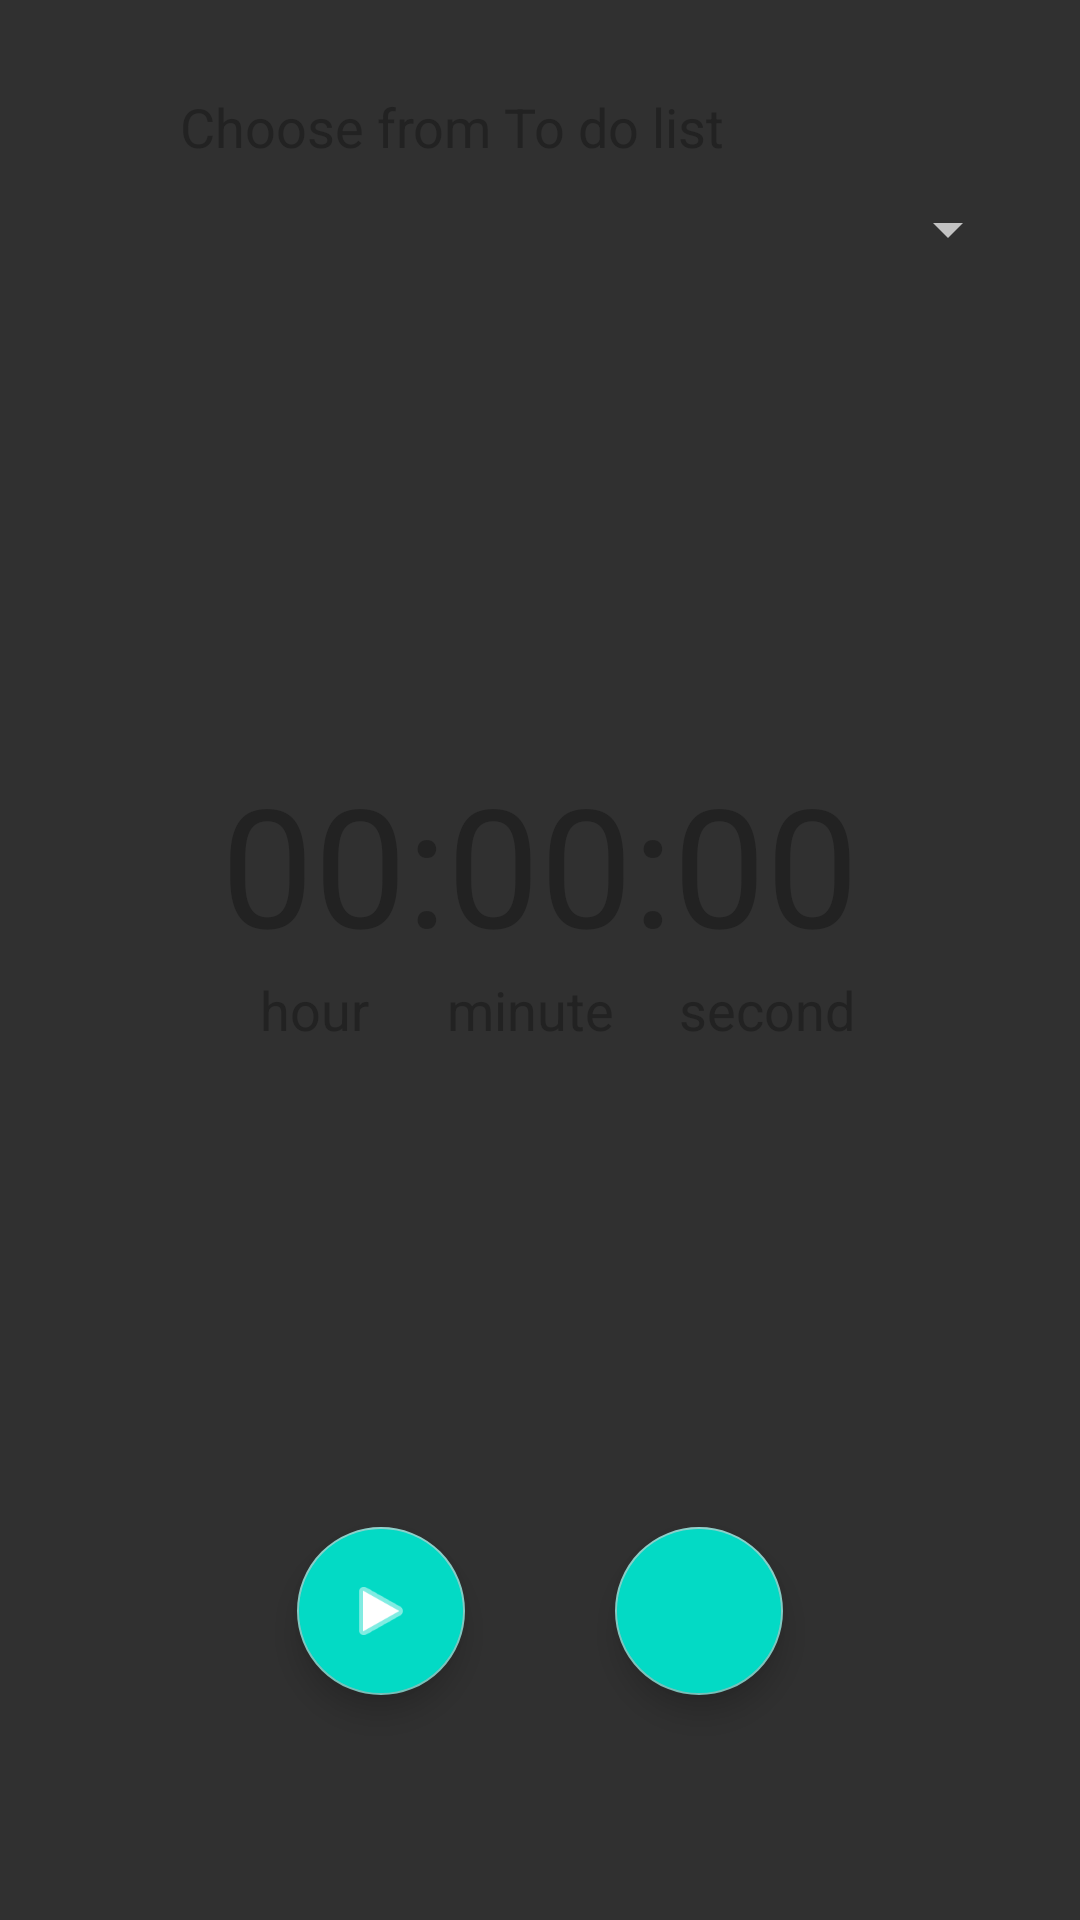

Where to tap for icons on this 1080px×1920px app screen, as (x,y):
play: (381,1611)
